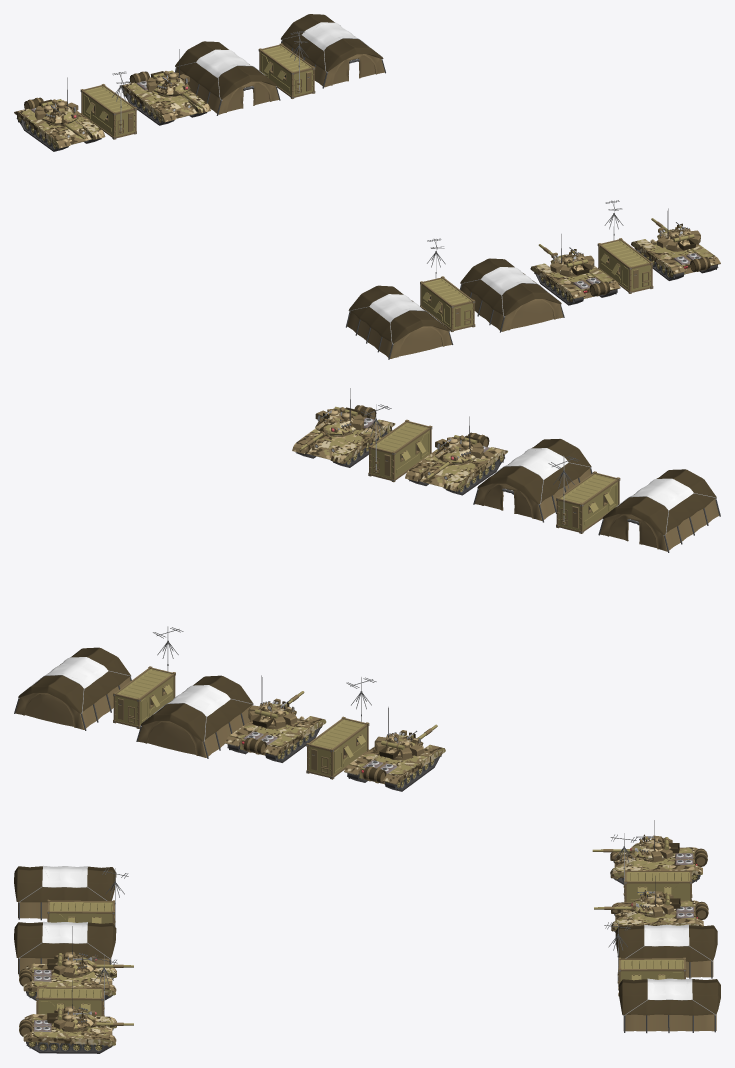
Rendered from base_lateral.glb.
3 renders of one model, top to bottom at view 1: azimuth 30°, elevation 25°; view 2: azimuth 150°, elevation 25°; view 3: azimuth 270°, elevation 25°, orthographic. The views are drawn at different scales.
Parts seen in each view (by area): view 1: tent_001.001, tent_001, tent_001.003, tent_001.004, radiostation_001.001, radiostation_001, radiostation_001.003, radiostation_001.002, tank_001.014, tank_001.015, tank_001, tank_001.001 (+4 smaller); view 2: tent_001.001, tent_001.003, tent_001.004, tent_001, radiostation_001, radiostation_001.001, radiostation_001.003, radiostation_001.002, tank_001.014, tank_001, tank_001.001, tank_001.015 (+4 smaller); view 3: tent_001.004, tent_001.001, tent_001.003, tent_001, tank_001.001, radiostation_001.003, tank_001, radiostation_001.001, tank_001.015, radiostation_001, radiostation_001.002, tank_001.014 (+4 smaller).
Boxes of the visible parts, x1=… form: tent_001.001: x1=346, y1=285, x2=453, y2=359; tent_001: x1=460, y1=258, x2=564, y2=332; tent_001.003: x1=174, y1=41, x2=280, y2=115; tent_001.004: x1=281, y1=14, x2=385, y2=88; radiostation_001.001: x1=597, y1=200, x2=653, y2=293; radiostation_001: x1=420, y1=238, x2=475, y2=331; radiostation_001.003: x1=80, y1=71, x2=137, y2=139; radiostation_001.002: x1=258, y1=31, x2=315, y2=98; tank_001.014: x1=119, y1=71, x2=210, y2=125; tank_001.015: x1=14, y1=97, x2=105, y2=151; tank_001: x1=530, y1=256, x2=620, y2=305; tank_001.001: x1=631, y1=239, x2=720, y2=280; tent_001.001: x1=598, y1=469, x2=720, y2=552; tent_001.003: x1=136, y1=675, x2=253, y2=758; tent_001.004: x1=14, y1=647, x2=131, y2=730; tent_001: x1=473, y1=439, x2=592, y2=522; radiostation_001: x1=548, y1=456, x2=620, y2=533; radiostation_001.001: x1=361, y1=404, x2=432, y2=482; radiostation_001.003: x1=306, y1=677, x2=376, y2=779; radiostation_001.002: x1=113, y1=626, x2=183, y2=728; tank_001.014: x1=224, y1=716, x2=326, y2=762; tank_001: x1=405, y1=432, x2=507, y2=495; tank_001.001: x1=292, y1=405, x2=395, y2=467; tank_001.015: x1=344, y1=736, x2=445, y2=791; tent_001.004: x1=619, y1=978, x2=720, y2=1033; tent_001.001: x1=14, y1=865, x2=116, y2=920; tent_001.003: x1=615, y1=924, x2=717, y2=978; tent_001: x1=14, y1=921, x2=116, y2=974; tank_001.001: x1=19, y1=1014, x2=116, y2=1053; radiostation_001.003: x1=610, y1=833, x2=692, y2=902; tank_001: x1=19, y1=963, x2=116, y2=1000; radiostation_001.001: x1=36, y1=954, x2=117, y2=1016; tank_001.015: x1=610, y1=847, x2=707, y2=884; radiostation_001: x1=47, y1=868, x2=128, y2=926; radiostation_001.002: x1=604, y1=921, x2=686, y2=996; tank_001.014: x1=611, y1=900, x2=708, y2=932.
Bounding box in the file's own units: 40.75 × 6.87 × 64.13.
2 materials, 2 textured.
